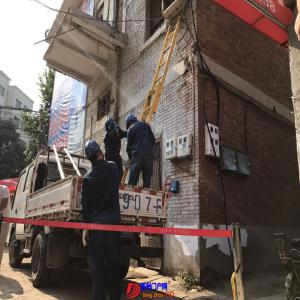blue: (85, 141, 104, 164), (105, 119, 118, 138), (126, 114, 138, 131)
